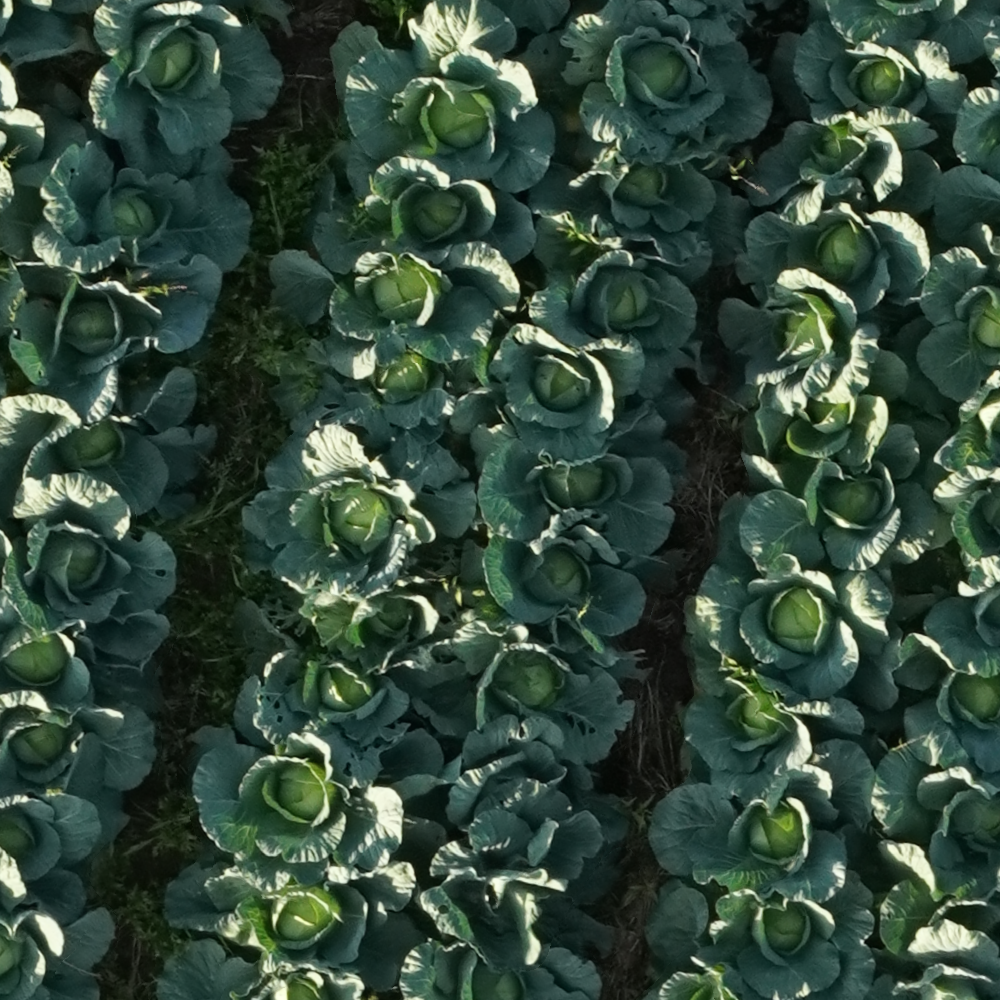Cabbage: (186, 678, 448, 892), (330, 0, 587, 197), (241, 425, 475, 600), (682, 553, 940, 710), (406, 611, 655, 766), (415, 779, 614, 972), (5, 253, 224, 426), (717, 424, 951, 576), (650, 742, 875, 898), (89, 0, 284, 179), (531, 219, 720, 399), (168, 859, 419, 994), (451, 321, 695, 459), (563, 2, 770, 164), (0, 366, 219, 519), (270, 244, 521, 377), (234, 597, 411, 784), (459, 509, 673, 663), (0, 473, 176, 658), (471, 415, 686, 559), (645, 872, 875, 1000), (34, 142, 253, 276), (717, 268, 908, 414), (309, 157, 534, 272), (440, 716, 633, 843), (683, 670, 865, 802), (531, 159, 753, 265), (748, 107, 943, 227), (735, 203, 929, 315), (771, 13, 972, 121), (270, 331, 456, 446), (892, 223, 999, 416), (300, 552, 461, 675), (0, 595, 167, 711), (875, 746, 999, 902), (0, 737, 127, 885), (0, 63, 90, 260), (0, 849, 115, 1000), (0, 689, 156, 800), (740, 389, 890, 493), (893, 632, 999, 775), (401, 938, 601, 1000), (156, 940, 362, 1000), (825, 0, 1000, 64), (864, 921, 1000, 1000), (879, 880, 1000, 961), (923, 555, 998, 677), (926, 368, 999, 493), (932, 468, 998, 558)
